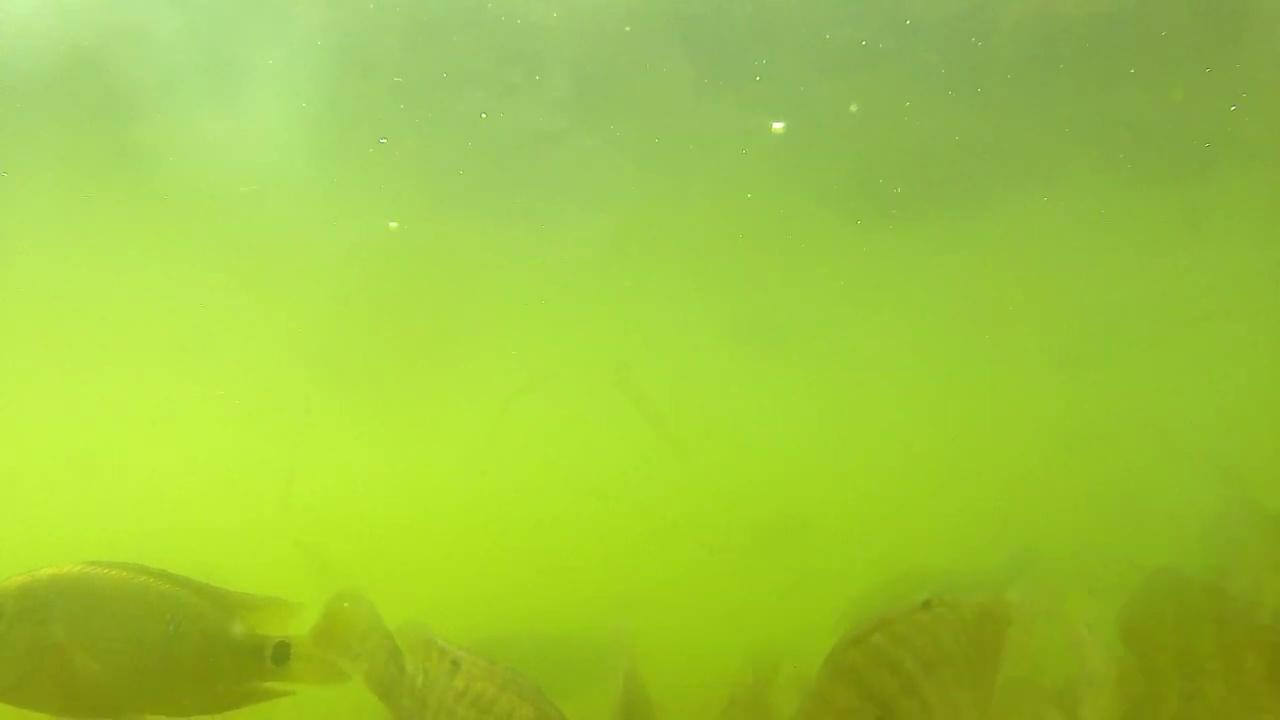Tilapia: (0, 562, 357, 712)
